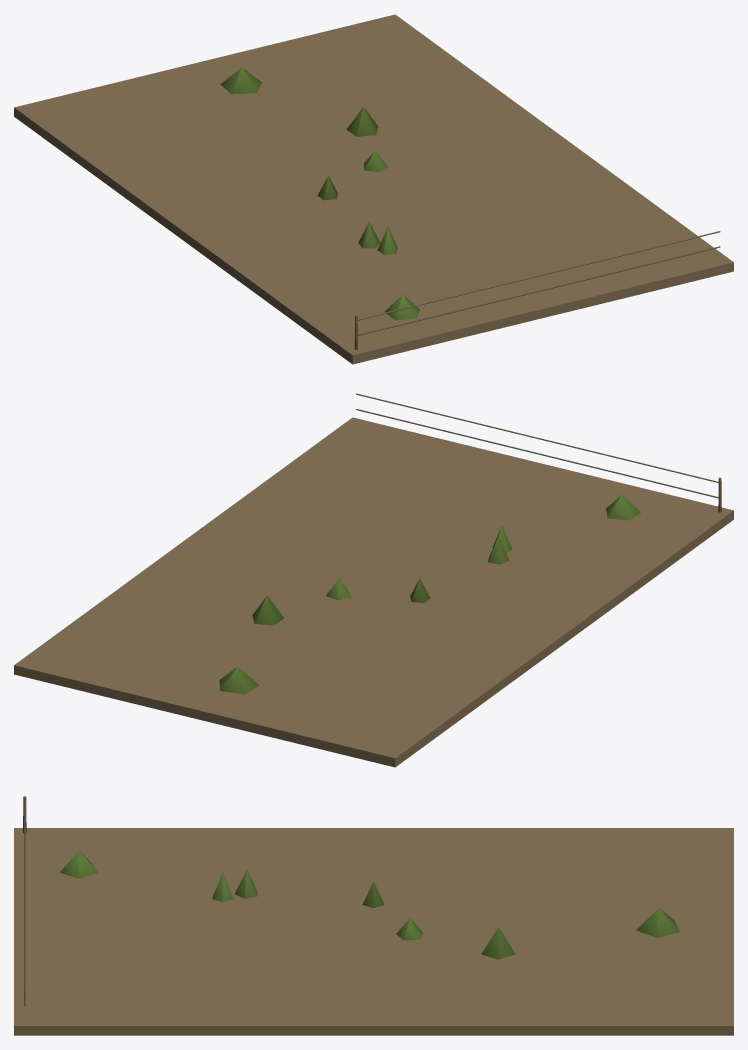
Rendered from terreno_vazio.glb.
3 views of the same model, one above another, from view 1: azimuth 30°, elevation 25°; view 2: azimuth 150°, elevation 25°; view 3: azimuth 270°, elevation 25° (orthographic). The views are drawn at different scales.
Visible parts, largest first — view 1: terreno_vazio_liso; view 2: terreno_vazio_liso; view 3: terreno_vazio_liso.
Part boxes in pixels (box(x1,y1,x2,y2)): terreno_vazio_liso: box(14, 14, 733, 364); terreno_vazio_liso: box(14, 393, 733, 767); terreno_vazio_liso: box(14, 801, 733, 1035).
Bounding box in the file's own units: 13 × 1.4 × 20.
Materials: 2 (1 with a texture image).
